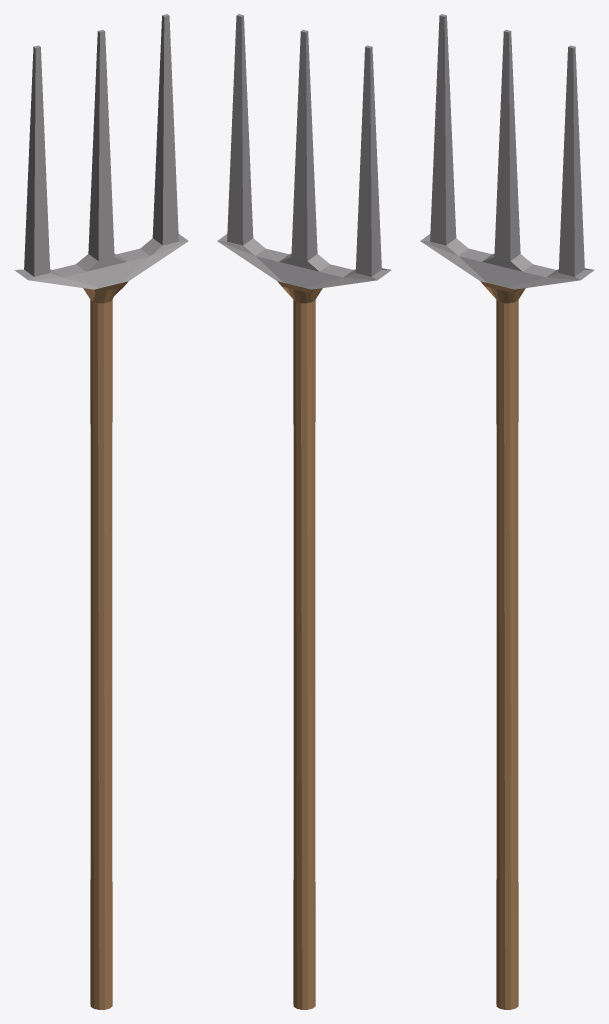
The model's file is Pitchfork.fbx.
3 renders of one model, left to right at view 1: azimuth 30°, elevation 25°; view 2: azimuth 150°, elevation 25°; view 3: azimuth 330°, elevation 25°, orthographic.
Visible parts, largest first — view 1: Pitchfork; view 2: Pitchfork; view 3: Pitchfork.
Boxes of the visible parts, <box> form: Pitchfork: <box>14,14,188,1009</box>; Pitchfork: <box>217,14,391,1009</box>; Pitchfork: <box>420,14,594,1009</box>.
Size of the model in its own units: 38.99 by 226 by 8.41.
